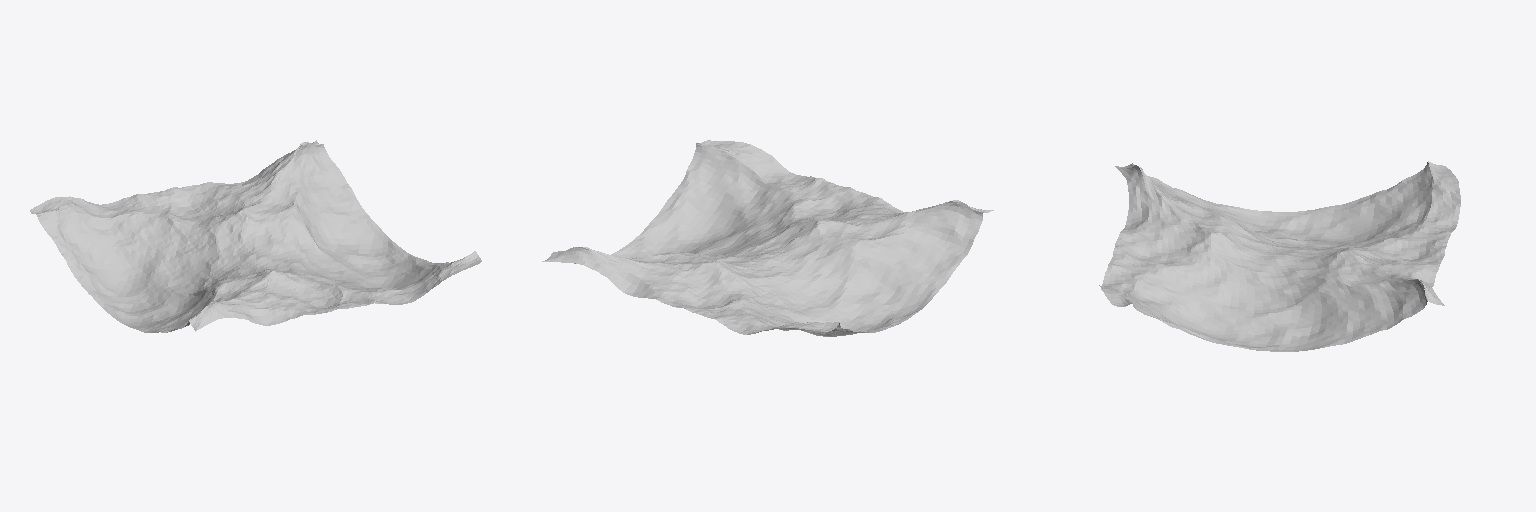
The model's file is terrain_test.obj.
3 views of the same model, side by side, from view 1: azimuth 30°, elevation 25°; view 2: azimuth 150°, elevation 25°; view 3: azimuth 270°, elevation 25° (orthographic).
Parts seen in each view (by area): view 1: Plane; view 2: Plane; view 3: Plane.
Boxes of the visible parts, <box> form: Plane: <box>30,140,481,332</box>; Plane: <box>542,140,993,336</box>; Plane: <box>1099,161,1460,351</box>.
Size of the model in its own units: 127 by 27.17 by 136.